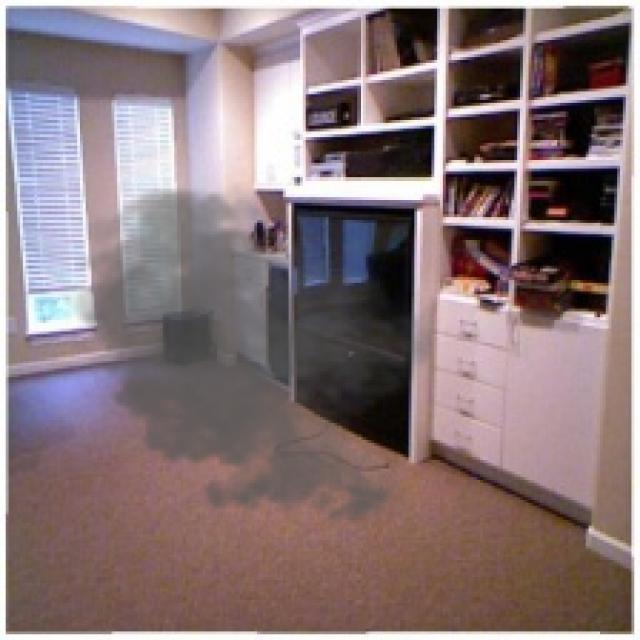Smoke: (57, 180, 432, 534)
